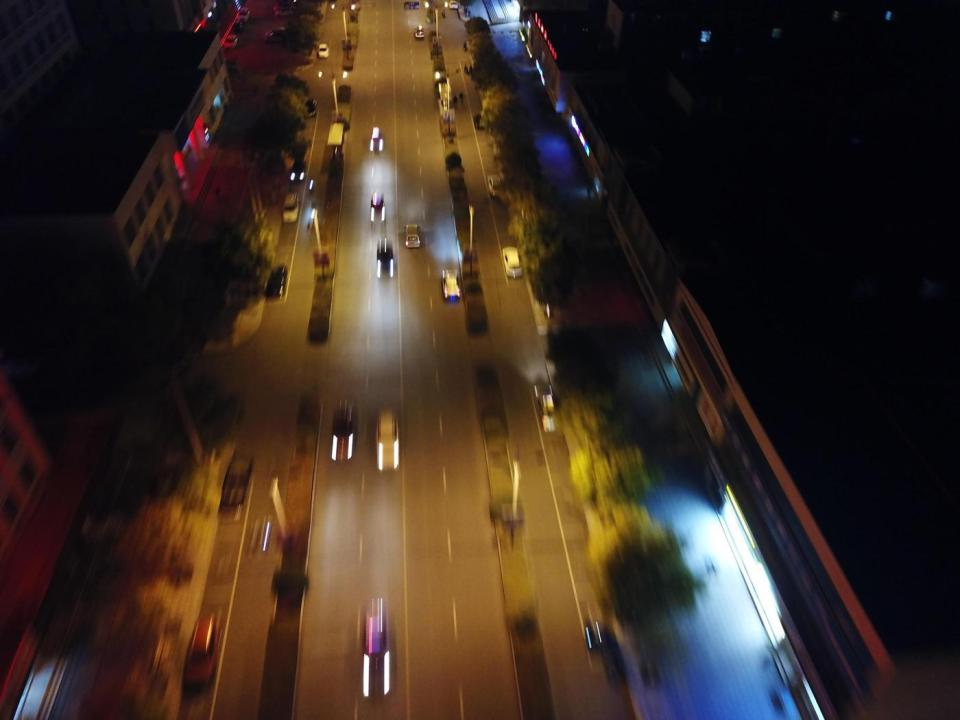car: (357, 598, 395, 699), (182, 610, 219, 692), (218, 454, 251, 516), (373, 411, 402, 472), (328, 401, 354, 461), (601, 628, 627, 686), (534, 384, 564, 432), (265, 266, 287, 298), (376, 240, 394, 276), (502, 247, 522, 278), (441, 268, 459, 300), (264, 27, 296, 43), (370, 190, 386, 221), (370, 125, 384, 152), (289, 160, 306, 182), (488, 175, 503, 197), (472, 111, 486, 130), (272, 0, 296, 11), (303, 99, 317, 116), (275, 6, 298, 16), (224, 34, 236, 48), (318, 43, 329, 58), (414, 26, 424, 37), (234, 20, 243, 31), (449, 1, 458, 9)
van: (281, 191, 299, 222), (404, 225, 420, 248), (218, 58, 241, 71), (237, 7, 249, 21)
